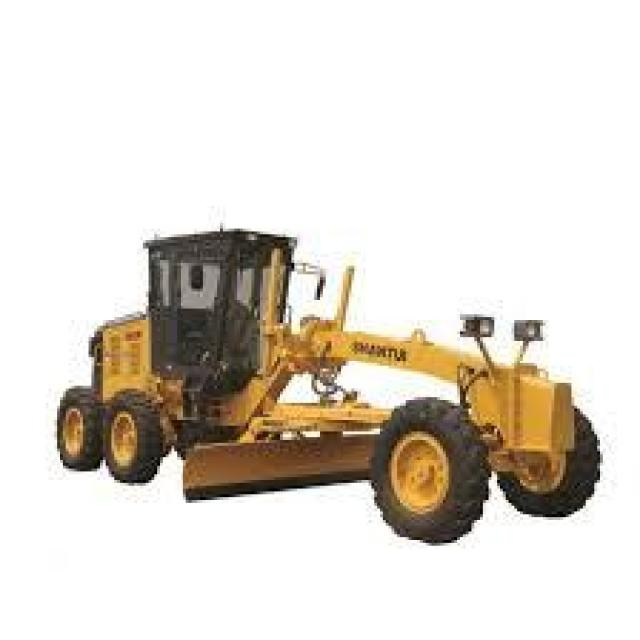buldozerpayloadergrader: (40, 209, 629, 554)
